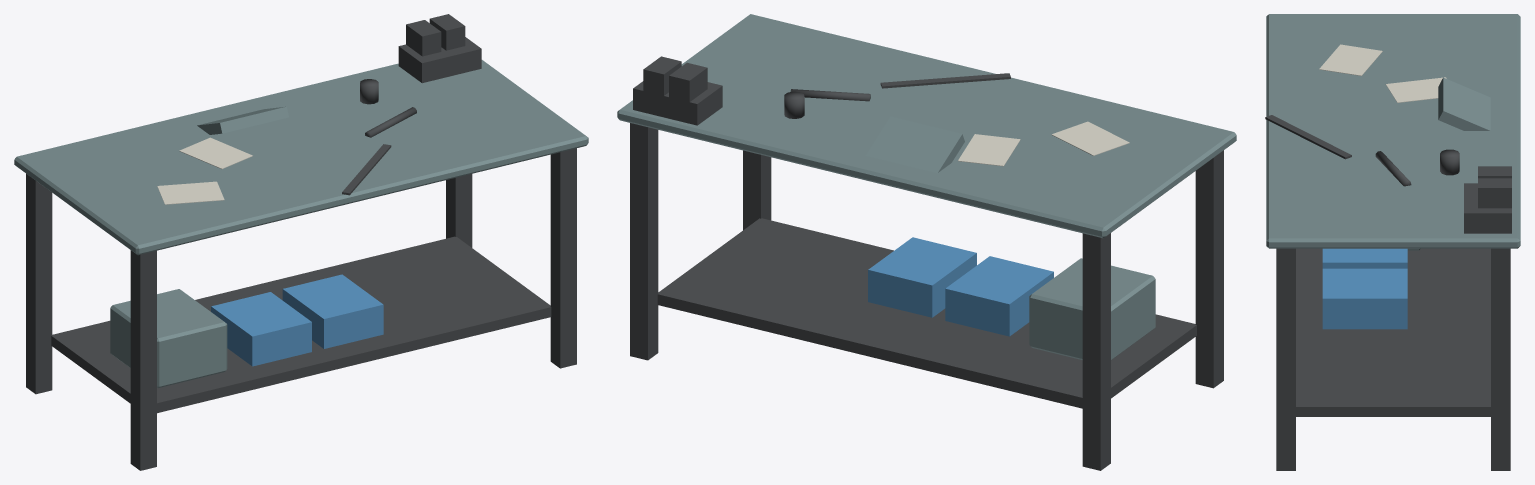
File: work_island.glb
3 renders of one model, left to right at view 1: azimuth 30°, elevation 25°; view 2: azimuth 150°, elevation 25°; view 3: azimuth 270°, elevation 25°, orthographic. The views are drawn at different scales.
Visible parts, largest first — view 1: work_island; view 2: work_island; view 3: work_island.
Boxes of the visible parts, box(x1,y1,x2,y2) form: work_island: box(14, 14, 588, 470); work_island: box(617, 14, 1236, 470); work_island: box(1265, 14, 1520, 470).
Size of the model in its own units: 1.9 by 1.08 by 0.9029.
